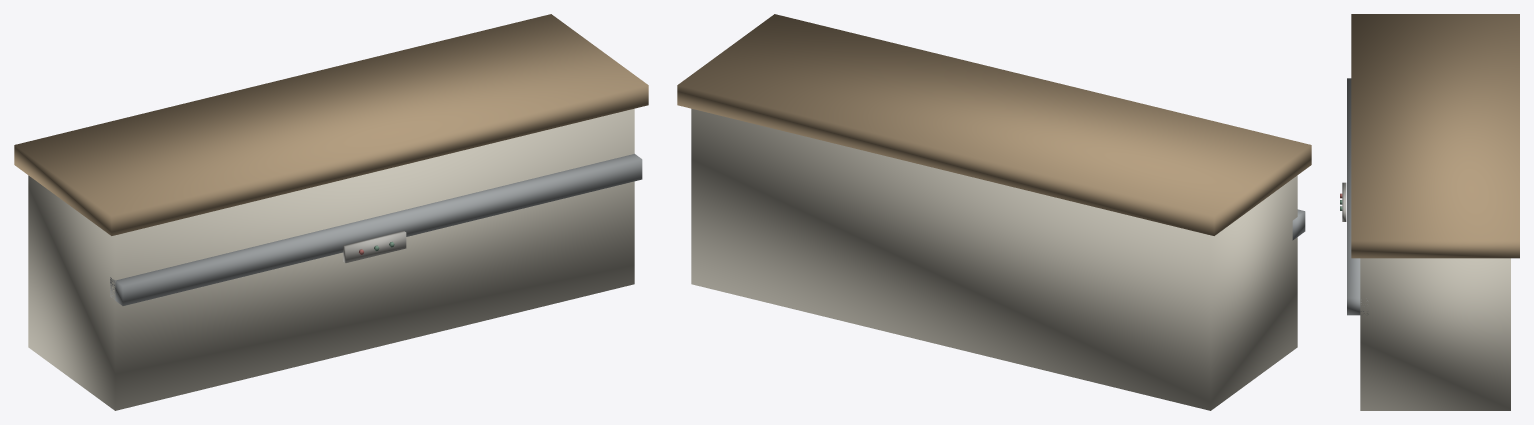
Rendered from diner_counter__compact.glb.
The picture shows the model from 3 angles, left to right: view 1: azimuth 30°, elevation 25°; view 2: azimuth 150°, elevation 25°; view 3: azimuth 270°, elevation 25°; orthographic projection. The views are drawn at different scales.
Parts seen in each view (by area): view 1: world; view 2: world; view 3: world.
Part boxes in pixels (x1,y1,x2,y2): world: (14, 14, 648, 410); world: (677, 14, 1311, 410); world: (1340, 14, 1519, 410).
Bounding box in the file's own units: 2.08 × 0.744 × 0.6975.
